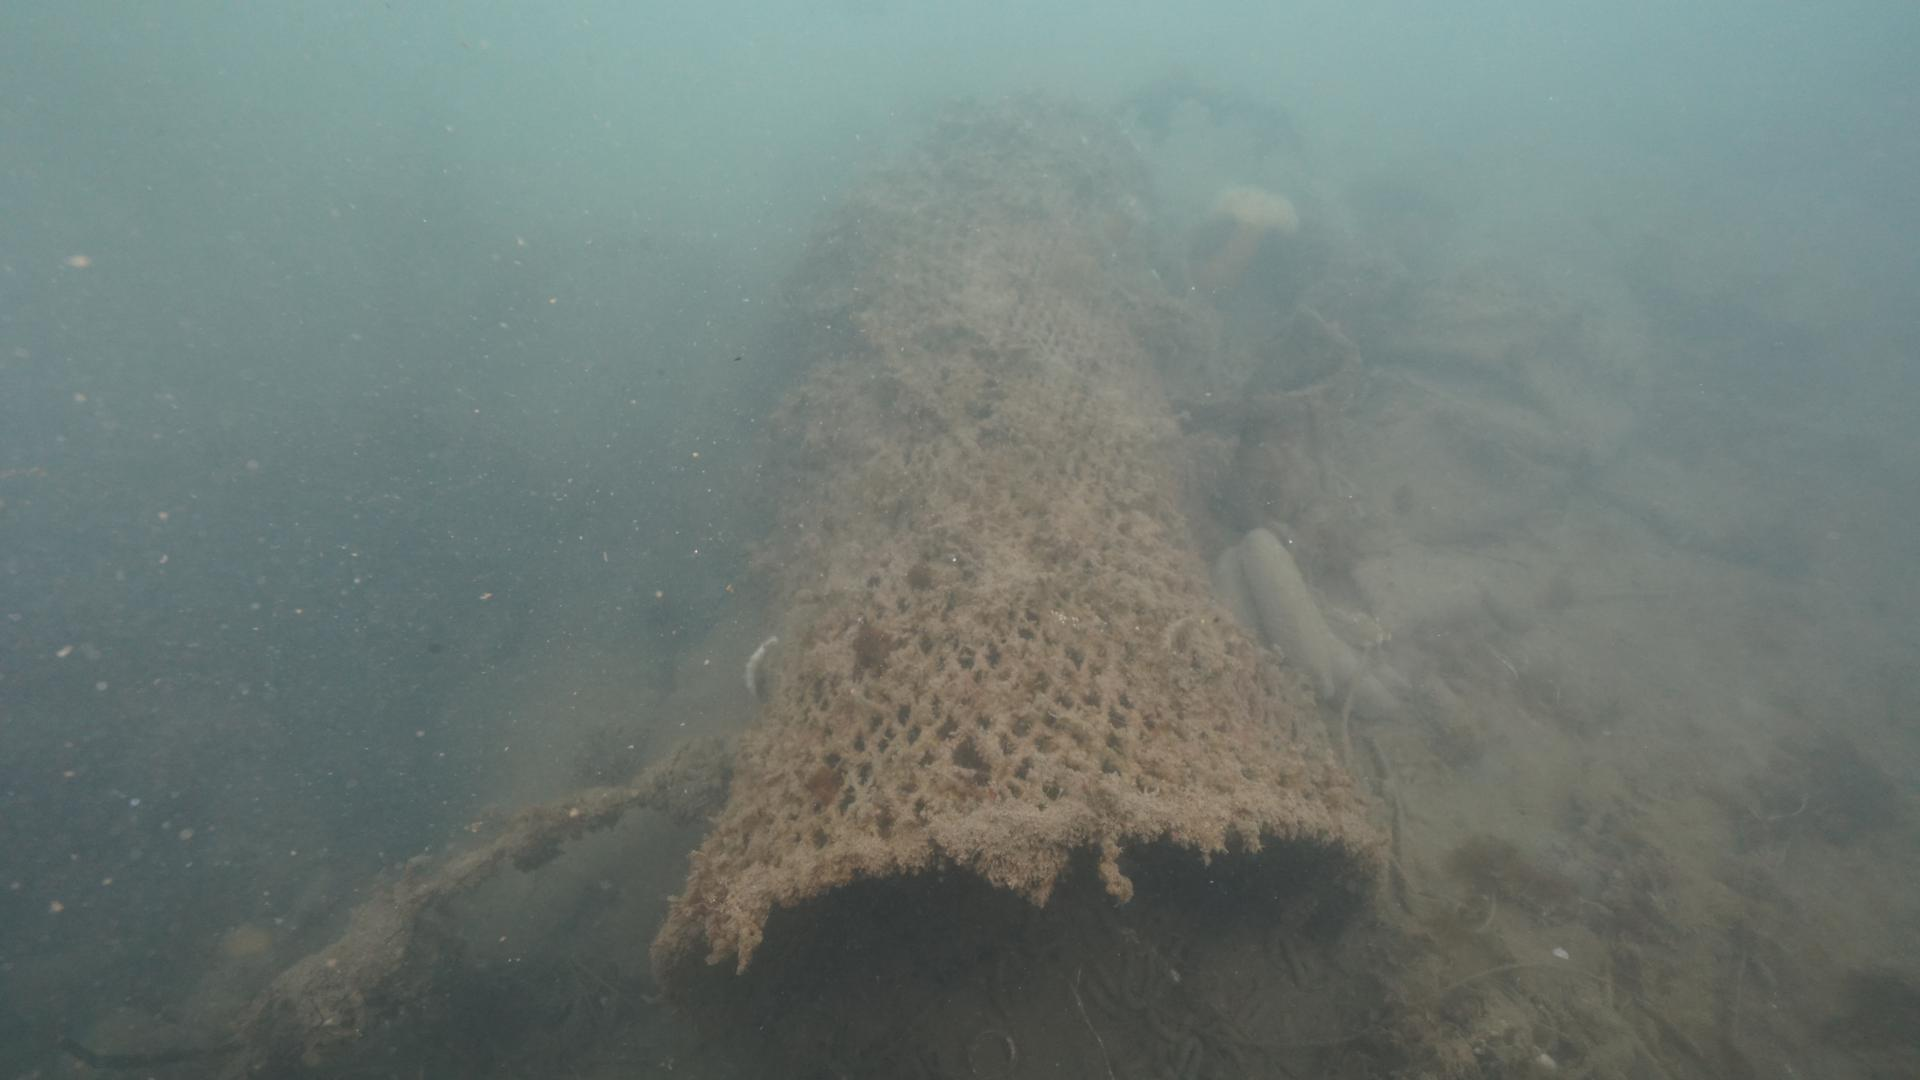spring fish trap: (654, 90, 1396, 1009)
